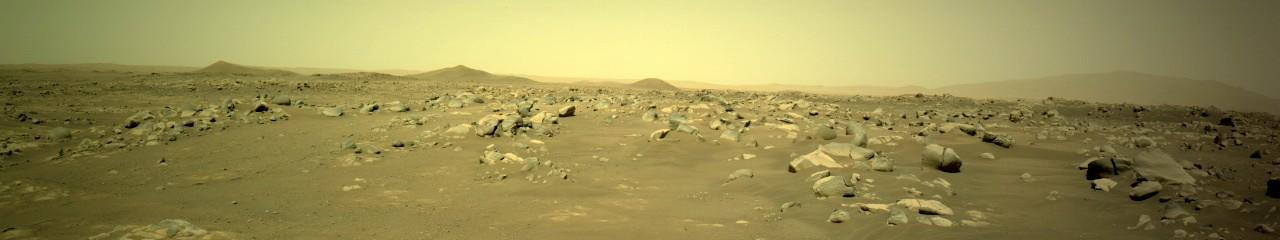bedrock: (2, 181, 243, 238), (9, 63, 466, 83), (321, 119, 390, 166), (364, 150, 463, 167), (475, 81, 575, 85), (591, 114, 616, 118), (1276, 202, 1278, 220), (465, 148, 470, 153), (99, 156, 106, 157), (1141, 228, 1143, 229)
big_rock: (665, 100, 1275, 234), (2, 75, 591, 177), (110, 101, 353, 144), (670, 89, 1044, 104), (1140, 222, 1275, 239), (597, 98, 616, 101), (458, 144, 463, 149), (1124, 219, 1126, 220)
sand: (1010, 142, 1122, 235), (972, 152, 998, 227), (697, 142, 737, 147), (805, 204, 814, 209)
soil: (5, 121, 857, 239), (915, 230, 1138, 238), (852, 231, 914, 236), (754, 166, 770, 175), (728, 169, 744, 175), (1076, 169, 1079, 175), (472, 164, 473, 168), (1122, 221, 1123, 222)
